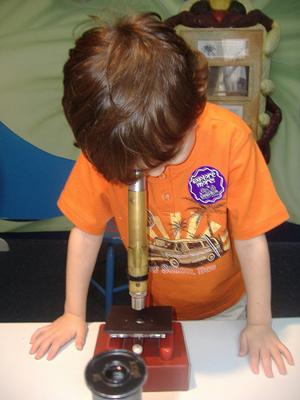person: (30, 16, 295, 380)
